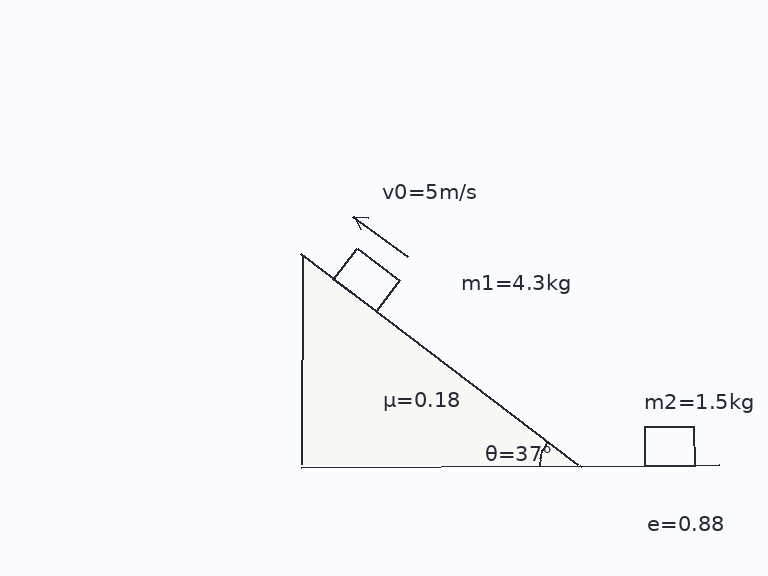block: (331, 246, 402, 313), (641, 426, 697, 467)
ramp: (299, 253, 582, 467)
